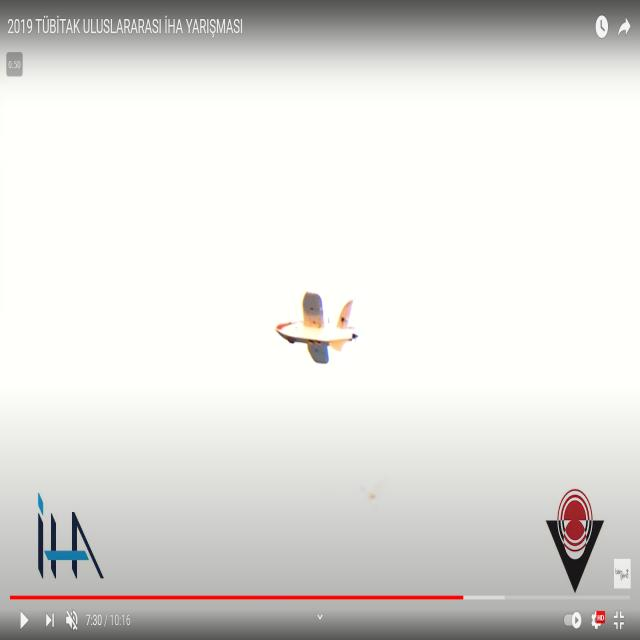iha: (307, 318, 326, 323)
